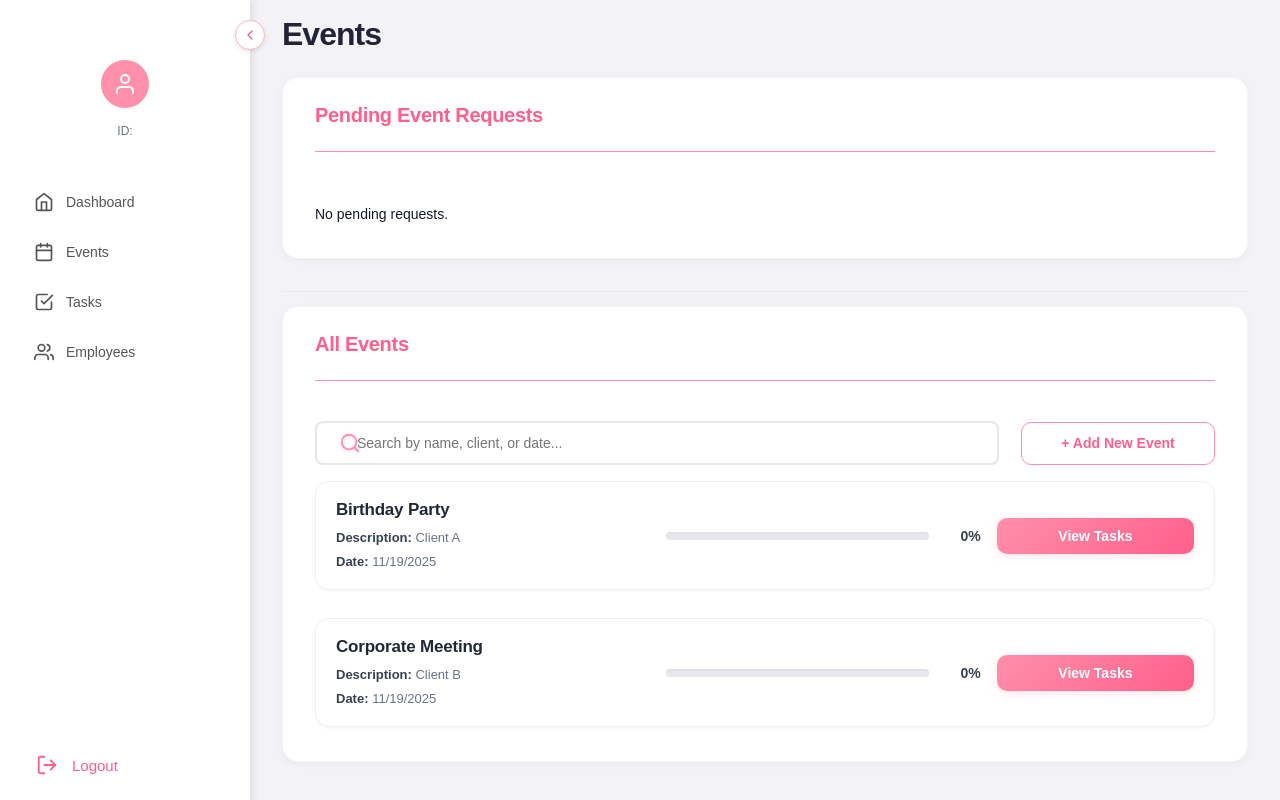
Test: Events Page › filters events based on search query
Expected: the text "Birthday Party" is shown, [336, 500, 449, 519]
Type "birthday" into the field with placeholder "Search by name, client, or date..." at (657,443), box [315, 421, 999, 465]
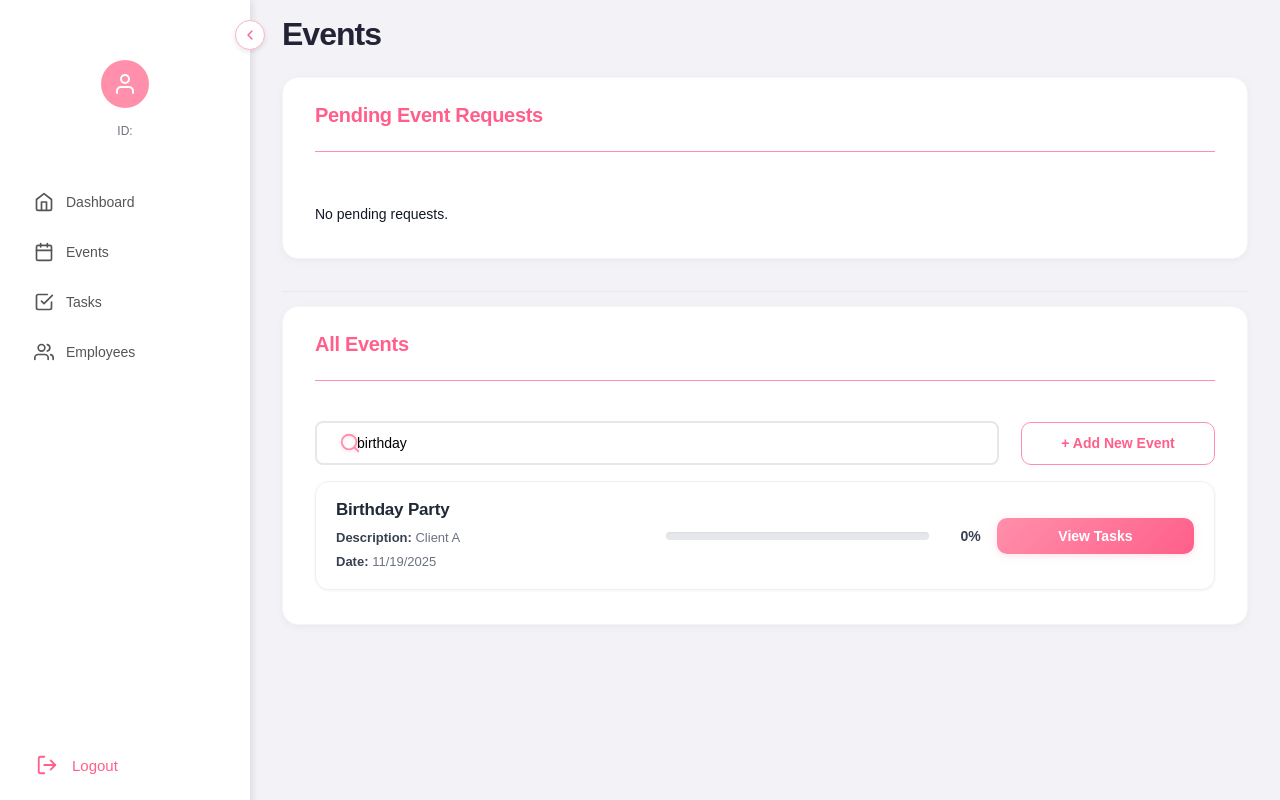
Expected: the text "Birthday Party" is shown, [336, 500, 449, 519]
Expected: the text "Corporate Meeting" is gone
